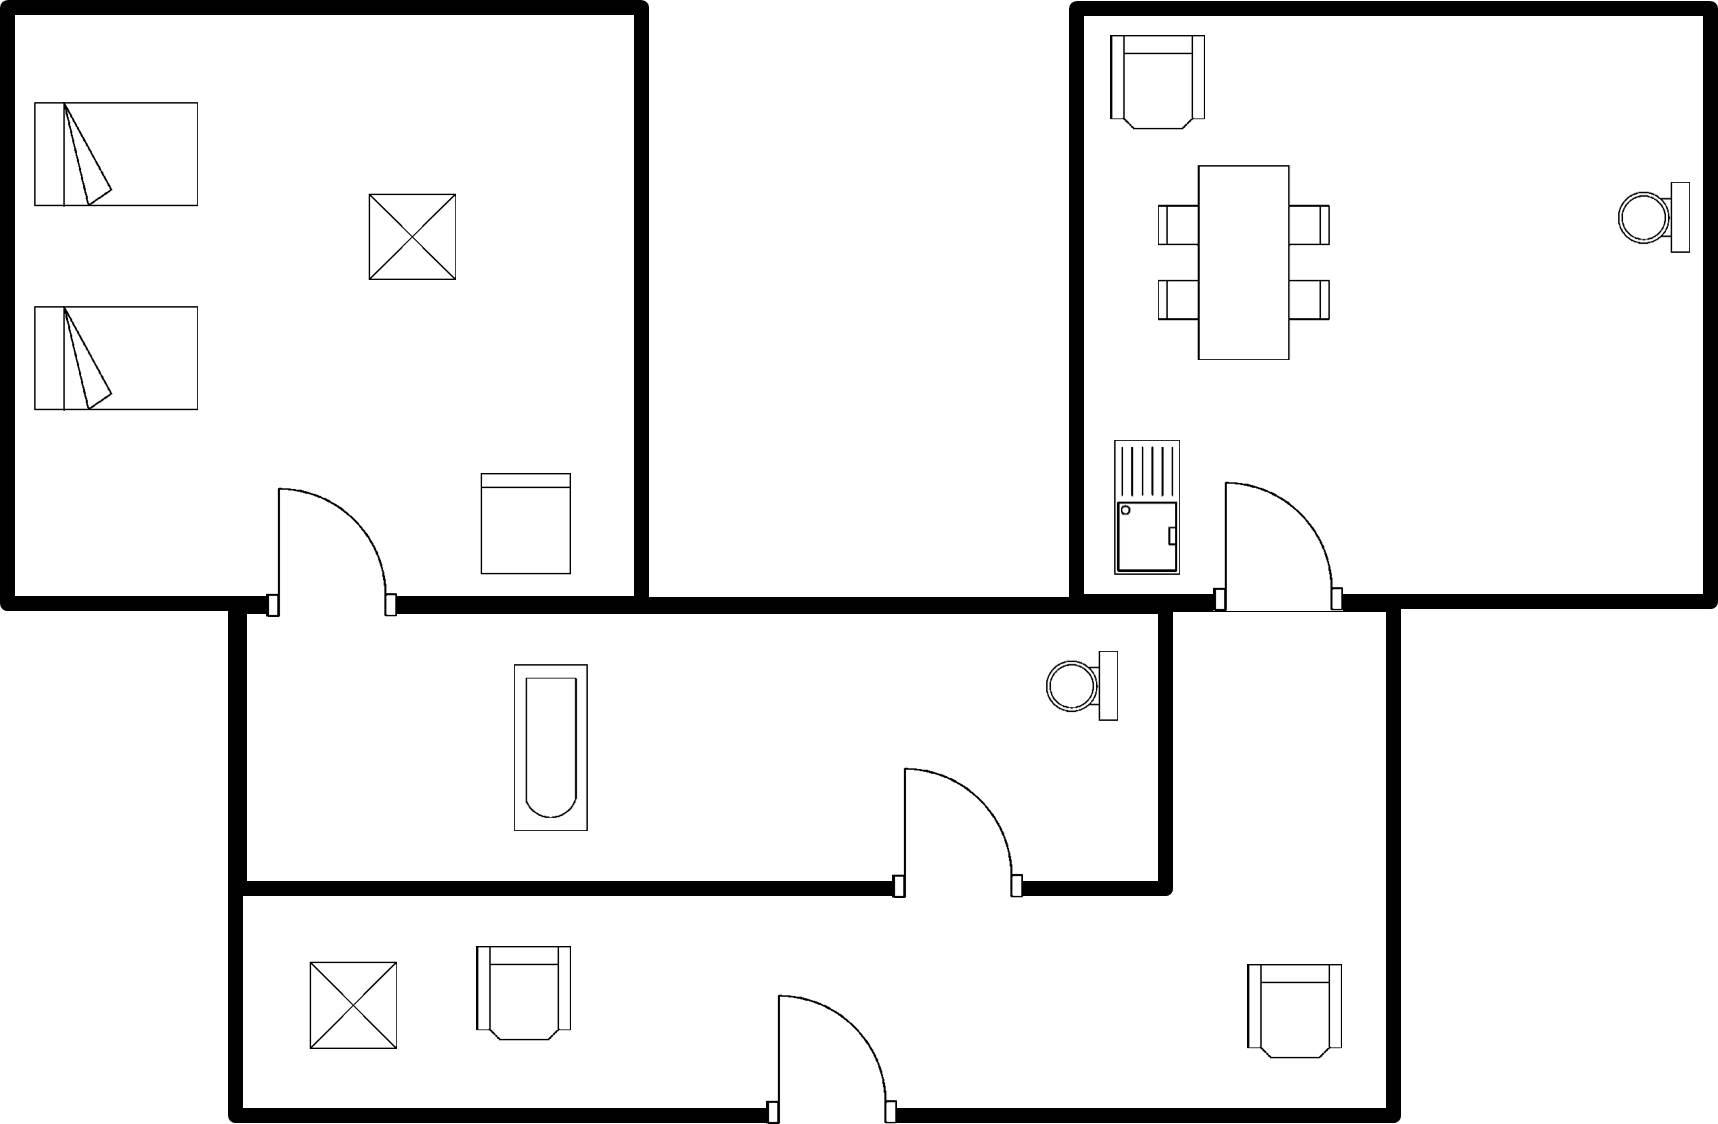bed: (24, 294, 209, 420), (23, 92, 208, 216)
dining_table: (1147, 157, 1341, 370)
sink: (1101, 429, 1191, 580)
toilet: (1606, 169, 1695, 261), (1037, 642, 1129, 731)
tub: (502, 654, 597, 840)
